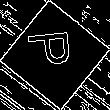P_E: (28, 34, 82, 76)
